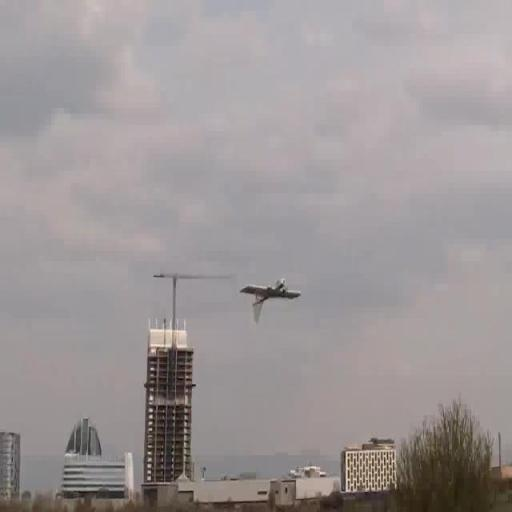uav: (233, 264, 303, 328)
